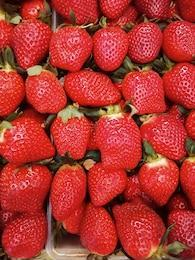Fresa: (108, 199, 168, 260), (94, 110, 143, 172), (140, 110, 194, 163), (1, 116, 57, 166), (46, 19, 96, 73), (49, 158, 89, 224), (5, 17, 53, 72), (2, 208, 52, 260), (62, 67, 123, 109), (136, 152, 182, 207), (78, 198, 119, 258), (121, 66, 168, 116), (50, 109, 94, 162), (23, 67, 68, 116), (87, 158, 129, 208), (91, 22, 130, 73), (126, 19, 165, 65), (160, 60, 195, 111), (163, 18, 195, 63)
